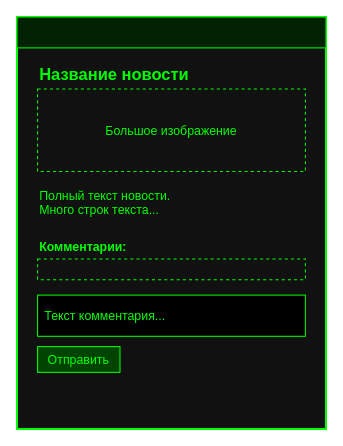
Image size: 343x446. Some labels were removed from this diagram. The shapes that lost their labels are listed below. From the top down, each one's centre as x and y in pixels, then its label:
point (171, 32): Navbar...
point (171, 269): User: круто!
